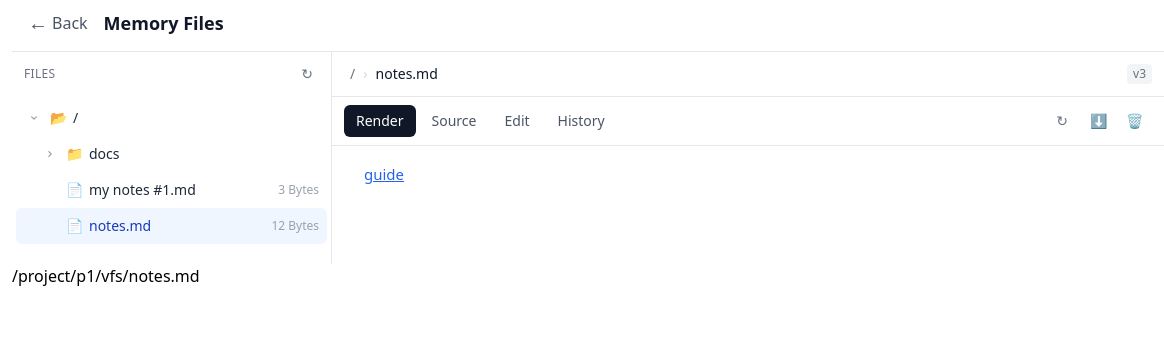
Test: VfsManagerView › links in rendered Markdown › open a file in a folder the tree hasn’t loaded yet
The width and height of the screenshot is (1164, 340).
Click the link "guide" at (384, 174), box [364, 164, 404, 184]
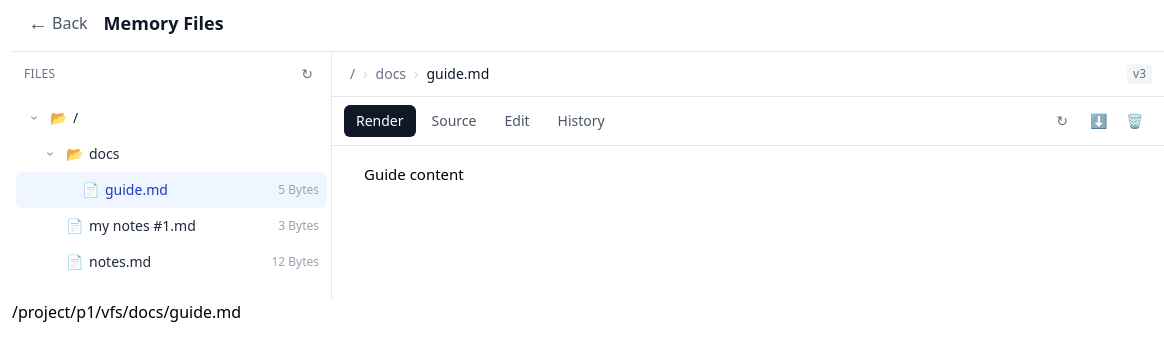
Check: the text "Guide content" is shown, box [364, 164, 464, 184]
Check: the text with test id "location" reads "/project/p1/vfs/docs/guide.md", box [12, 301, 241, 323]
